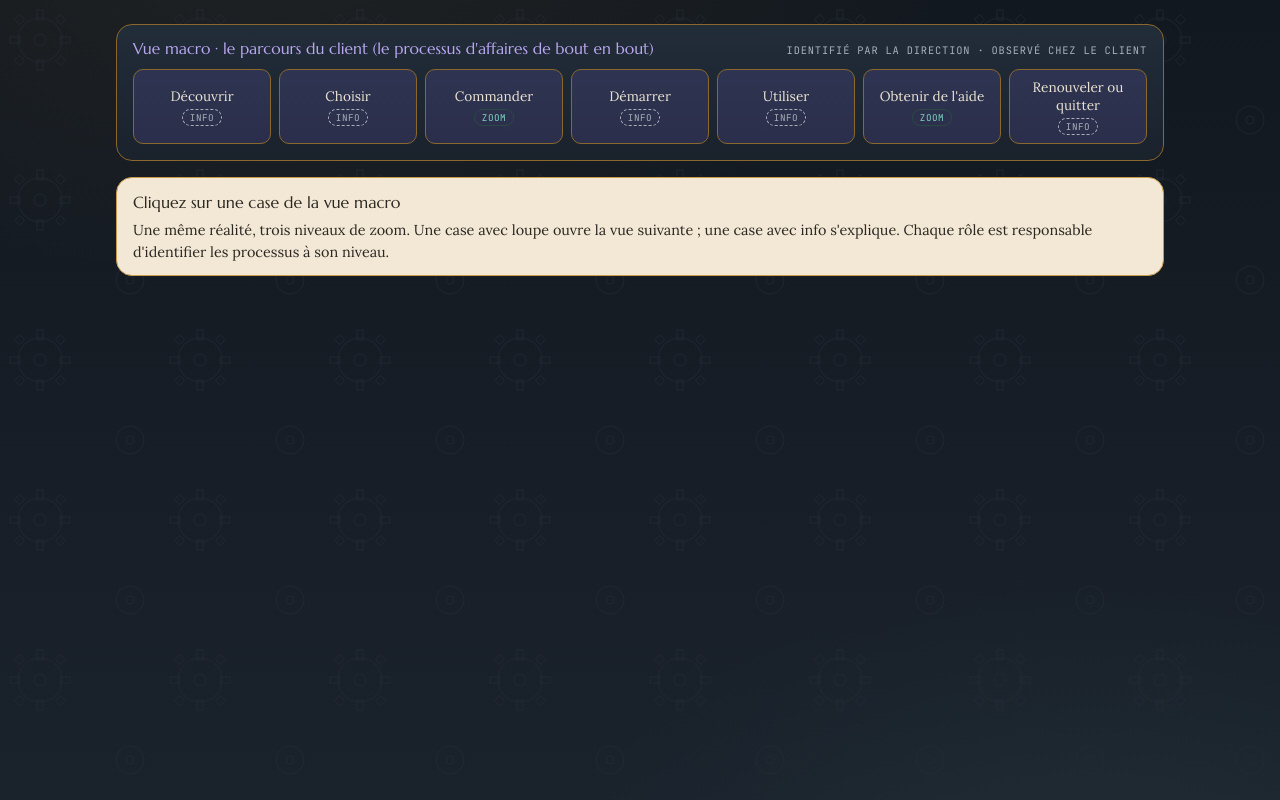
Test: ZoomMap › descend jusqu'à la vue micro puis remonte par la pastille fermer
The width and height of the screenshot is (1280, 800).
Click the button "Commander zoom" at (494, 107), box [425, 69, 563, 144]
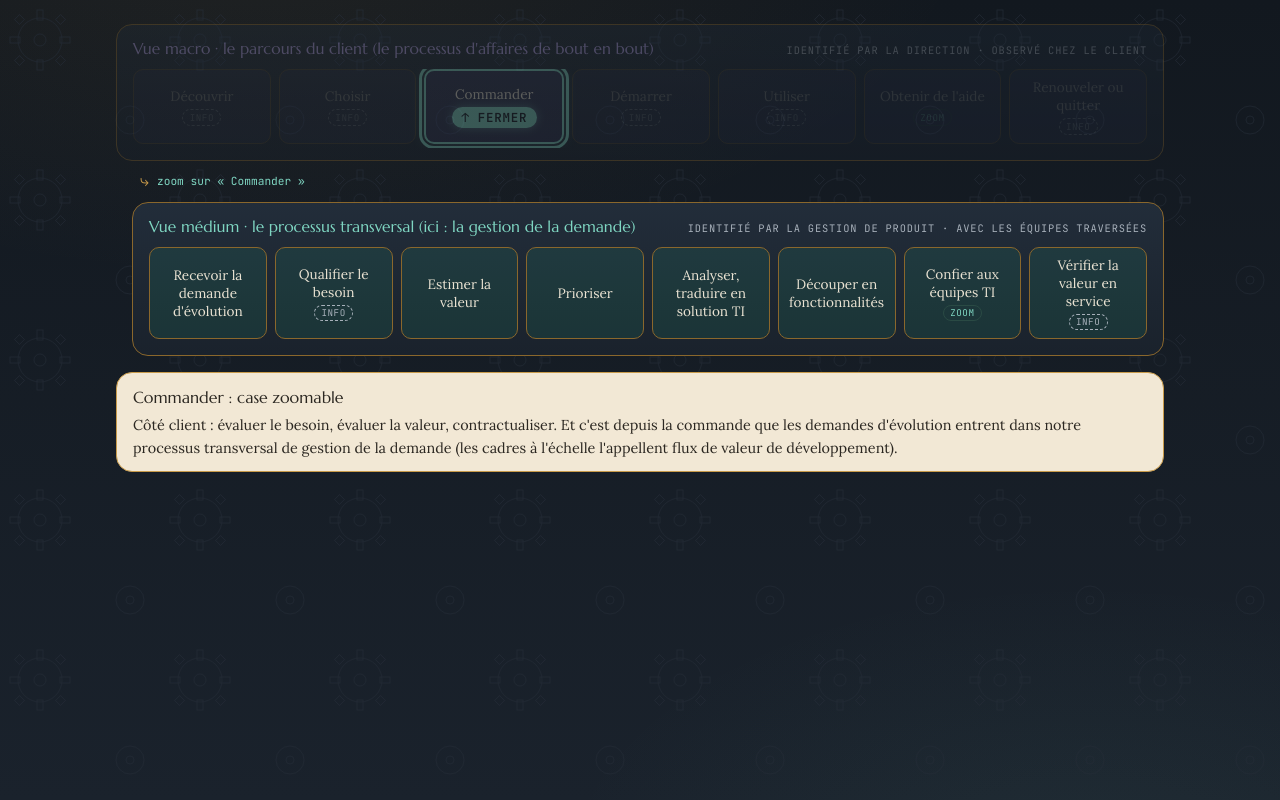
Expected: the element "Vue médium" is shown, [132, 202, 1164, 356]
Expected: the text "Vue médium · le processus transversal (ici : la gestion de la demande)" is shown, [149, 215, 636, 239]
Click the button "Confier aux équipes TI zoom" at (962, 293), box [904, 247, 1021, 340]
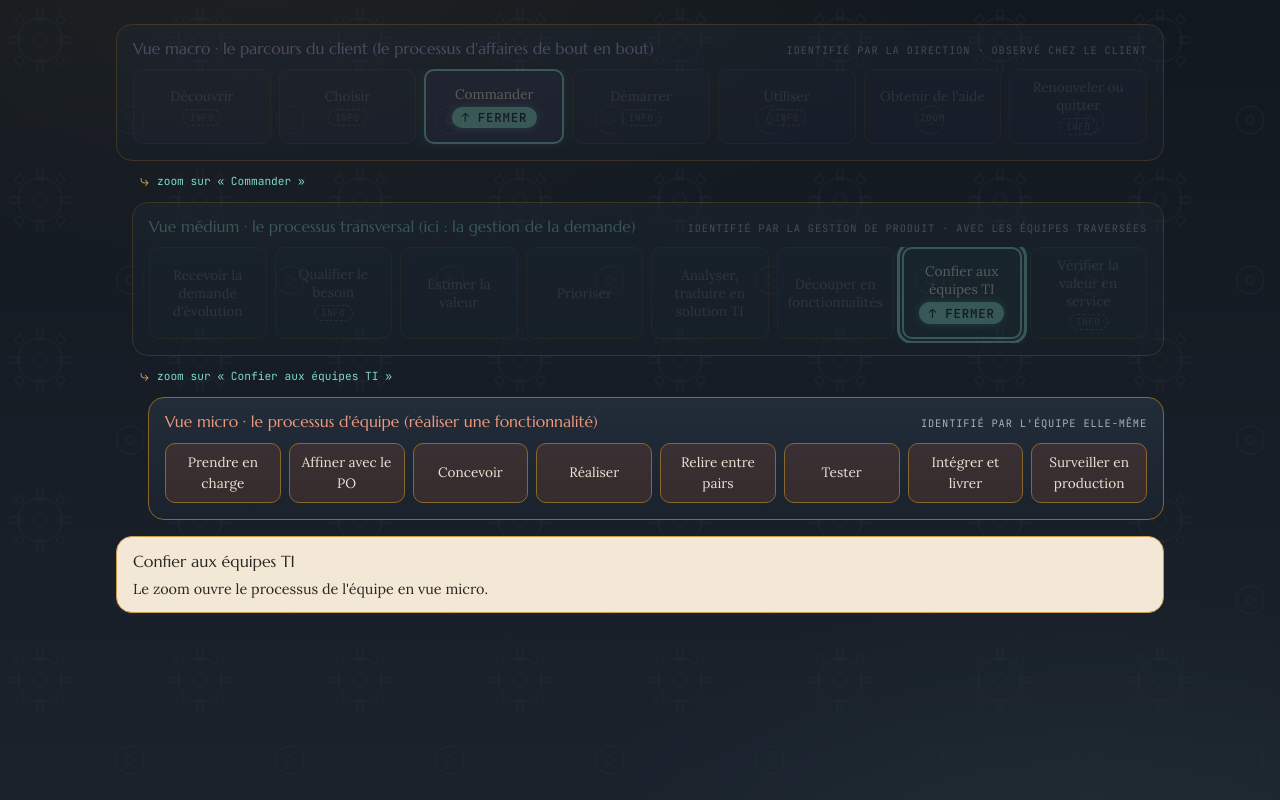
Expected: the element "Vue micro" is shown, [148, 397, 1164, 520]
Expected: the text "réaliser une fonctionnalité" is shown, [165, 412, 598, 431]
Expected: the button "Confier aux équipes TI ↑ fermer" is expanded
Click the button "Confier aux équipes TI ↑ fermer" at (962, 293), box [902, 247, 1022, 340]
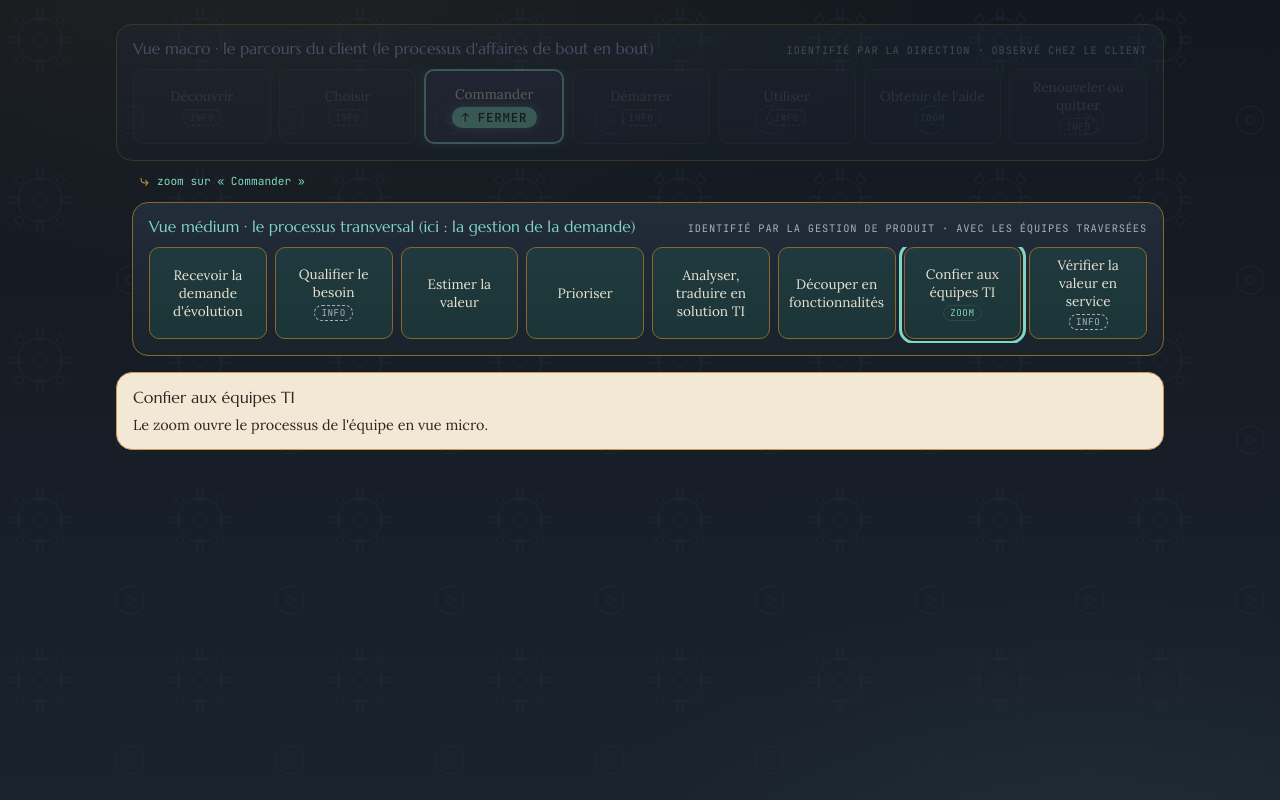
Expected: the button "Confier aux équipes TI zoom" is collapsed, [904, 247, 1021, 340]
